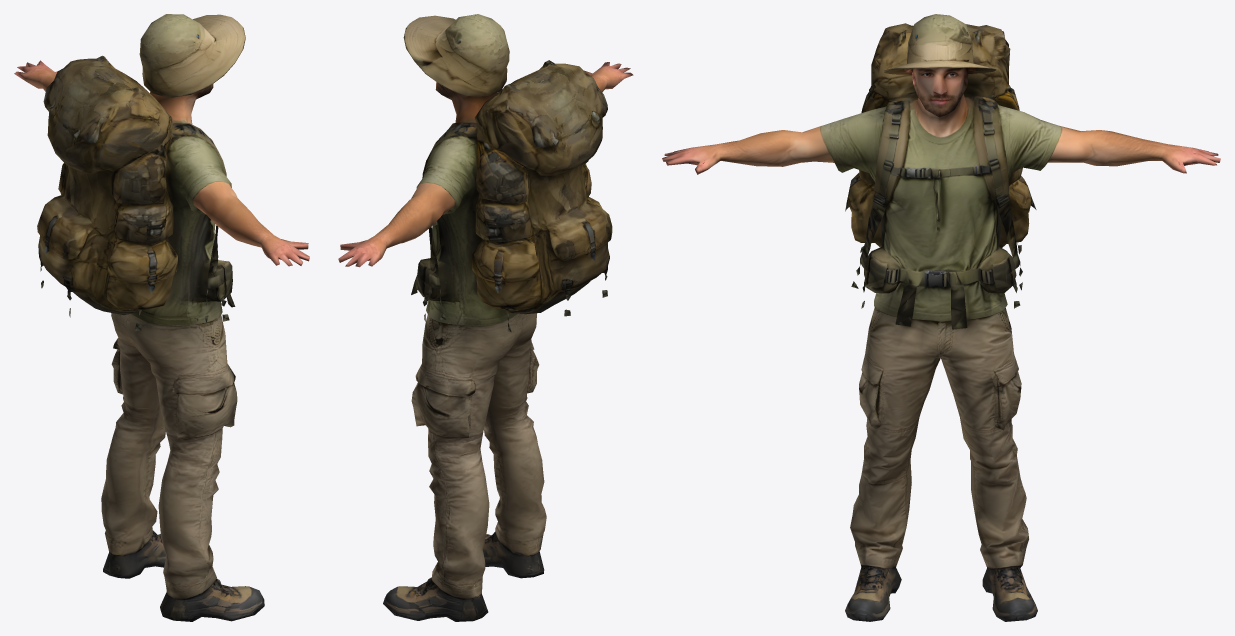
File: traveler_hotel_guest.glb
3 renders of one model, left to right at view 1: azimuth 30°, elevation 25°; view 2: azimuth 150°, elevation 25°; view 3: azimuth 270°, elevation 25°, orthographic. The views are drawn at different scales.
Parts seen in each view (by area): view 1: tripo_node_68474130-ea22-43e3-a75d-8a13cffdf593; view 2: tripo_node_68474130-ea22-43e3-a75d-8a13cffdf593; view 3: tripo_node_68474130-ea22-43e3-a75d-8a13cffdf593.
Part boxes in pixels (x1=…): tripo_node_68474130-ea22-43e3-a75d-8a13cffdf593: x1=14, y1=14, x2=309, y2=621; tripo_node_68474130-ea22-43e3-a75d-8a13cffdf593: x1=338, y1=14, x2=633, y2=621; tripo_node_68474130-ea22-43e3-a75d-8a13cffdf593: x1=662, y1=14, x2=1220, y2=621.
Bounding box in the file's own units: 0.3418 × 0.998 × 0.8652.
Materials: 1 (1 with a texture image).
